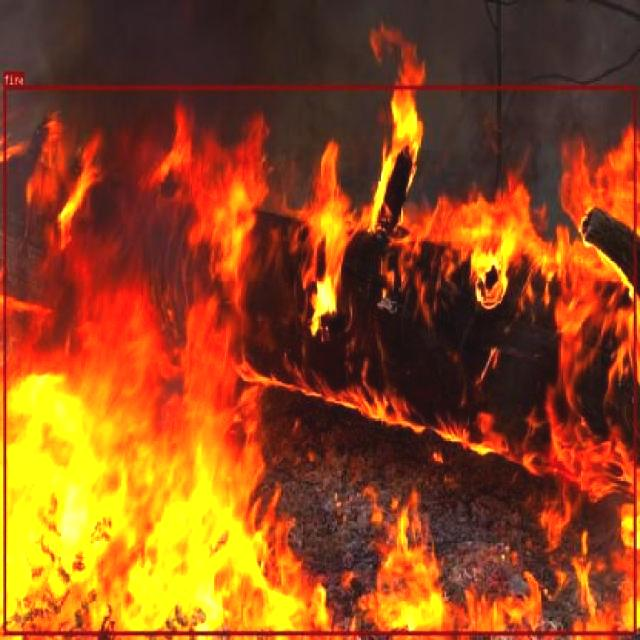fire: (4, 86, 636, 634)
